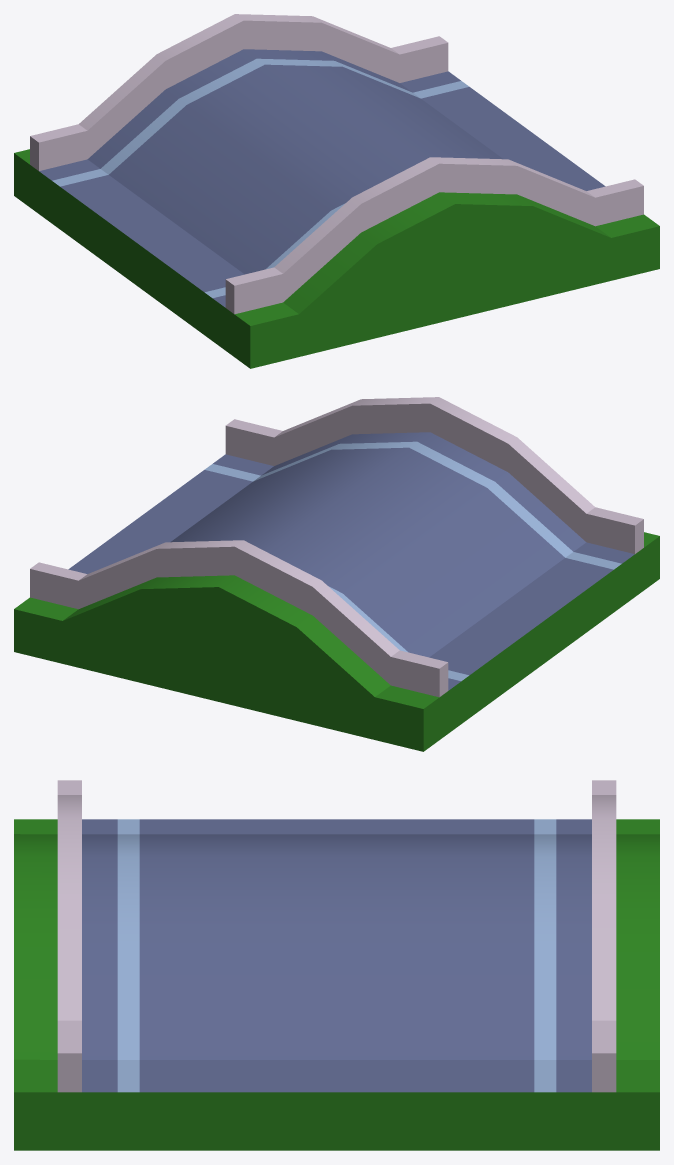
Rendered from Humped Base.fbx.
3 views of the same model, one above another, from view 1: azimuth 30°, elevation 25°; view 2: azimuth 150°, elevation 25°; view 3: azimuth 270°, elevation 25° (orthographic). The views are drawn at different scales.
Parts seen in each view (by area): view 1: Box004; view 2: Box004; view 3: Box004.
Boxes of the visible parts, bbox=[...] form: Box004: bbox=[14, 14, 659, 368]; Box004: bbox=[14, 397, 659, 751]; Box004: bbox=[14, 780, 659, 1150].
Size of the model in its own units: 50.47 by 16.9 by 50.47.
